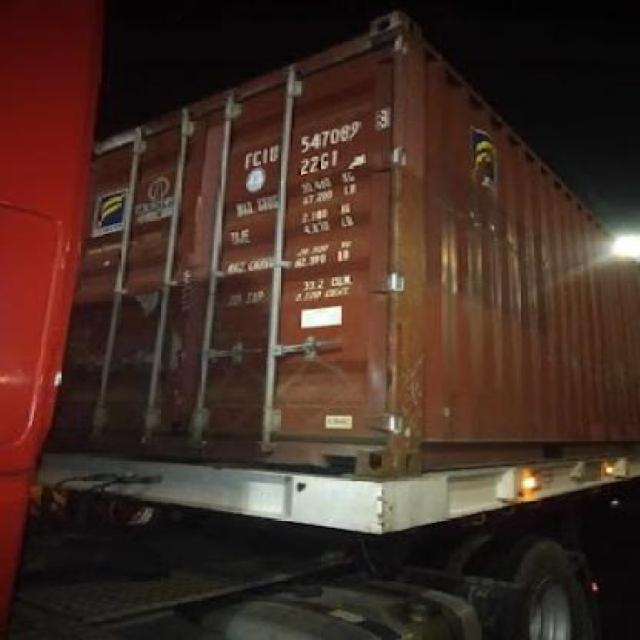ISO: (298, 150, 338, 177)
container_number: (244, 105, 394, 167)
